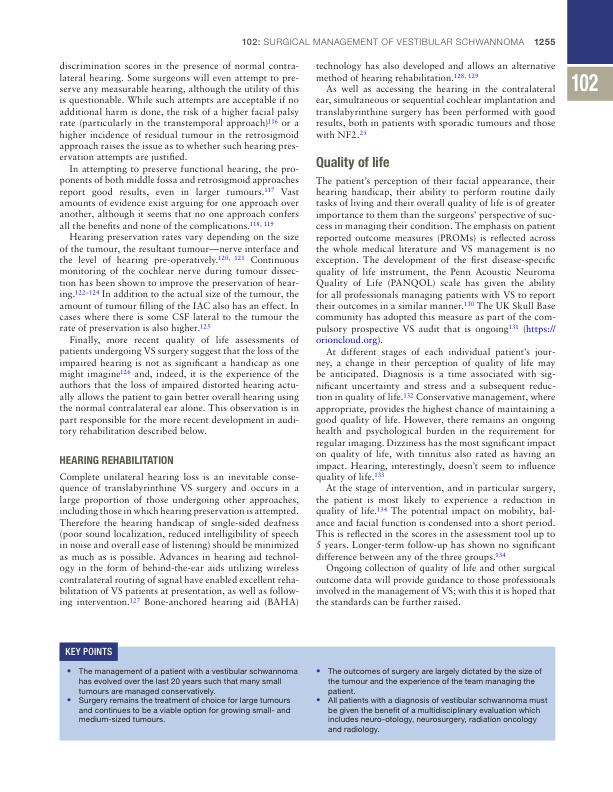caption: (64, 647, 114, 656)
header: (240, 37, 526, 47)
list: (314, 667, 549, 735), (65, 667, 298, 723)
sub-section-heading: (58, 454, 175, 466), (315, 155, 390, 171)
text: (314, 176, 557, 607), (58, 60, 300, 437), (58, 471, 300, 609), (314, 60, 556, 139)
